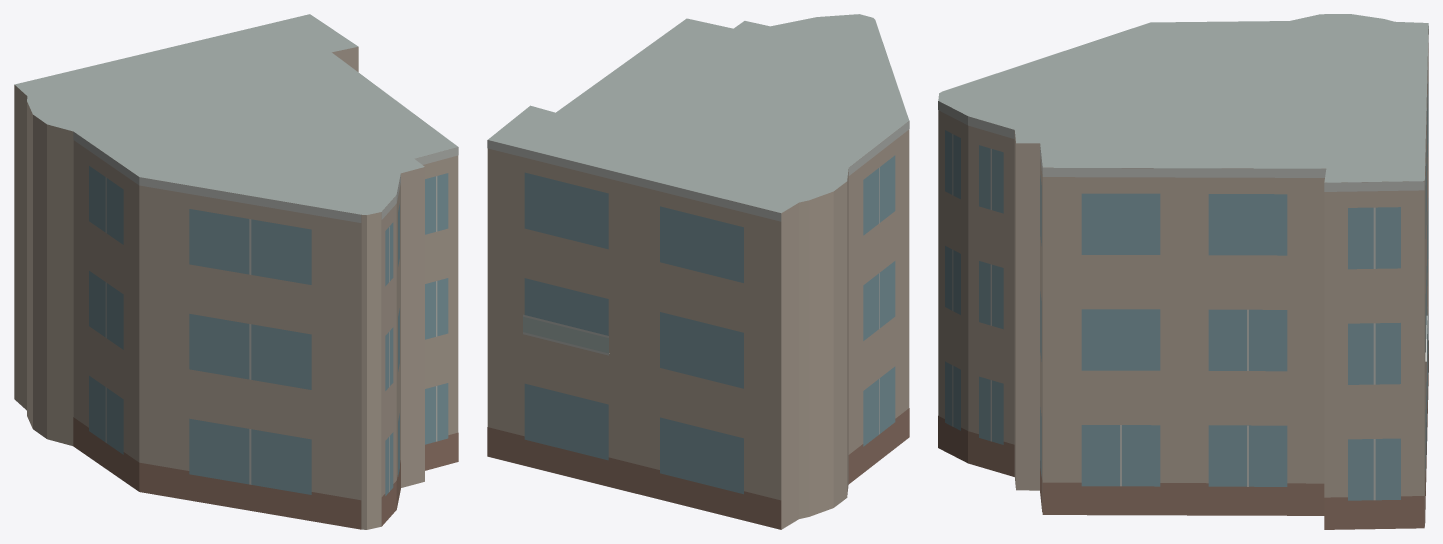
File: survey-upis-32761577.glb
3 renders of one model, left to right at view 1: azimuth 30°, elevation 25°; view 2: azimuth 150°, elevation 25°; view 3: azimuth 270°, elevation 25°, orthographic. The views are drawn at different scales.
Parts seen in each view (by area): view 1: survey-upis-32761577.tmp; view 2: survey-upis-32761577.tmp; view 3: survey-upis-32761577.tmp.
Boxes of the visible parts, left/top/right/bottom form: survey-upis-32761577.tmp: left=14, top=14, right=458, bottom=529; survey-upis-32761577.tmp: left=487, top=14, right=909, bottom=529; survey-upis-32761577.tmp: left=938, top=14, right=1428, bottom=529.
Bounding box in the file's own units: 9.49 × 9.1 × 11.66.
